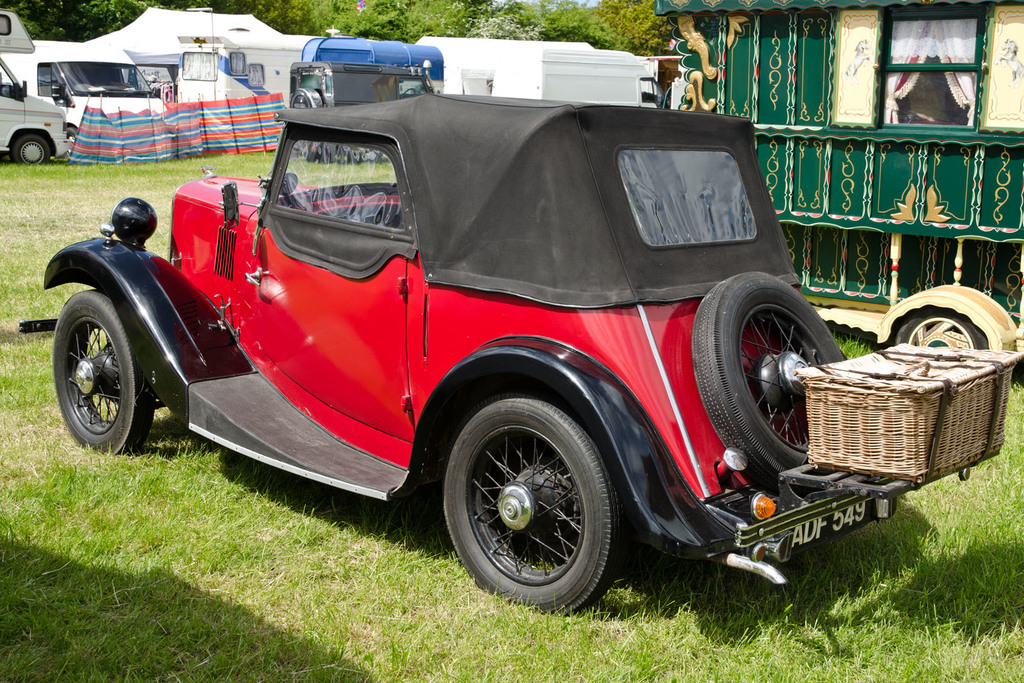Car: (23, 82, 1023, 624)
